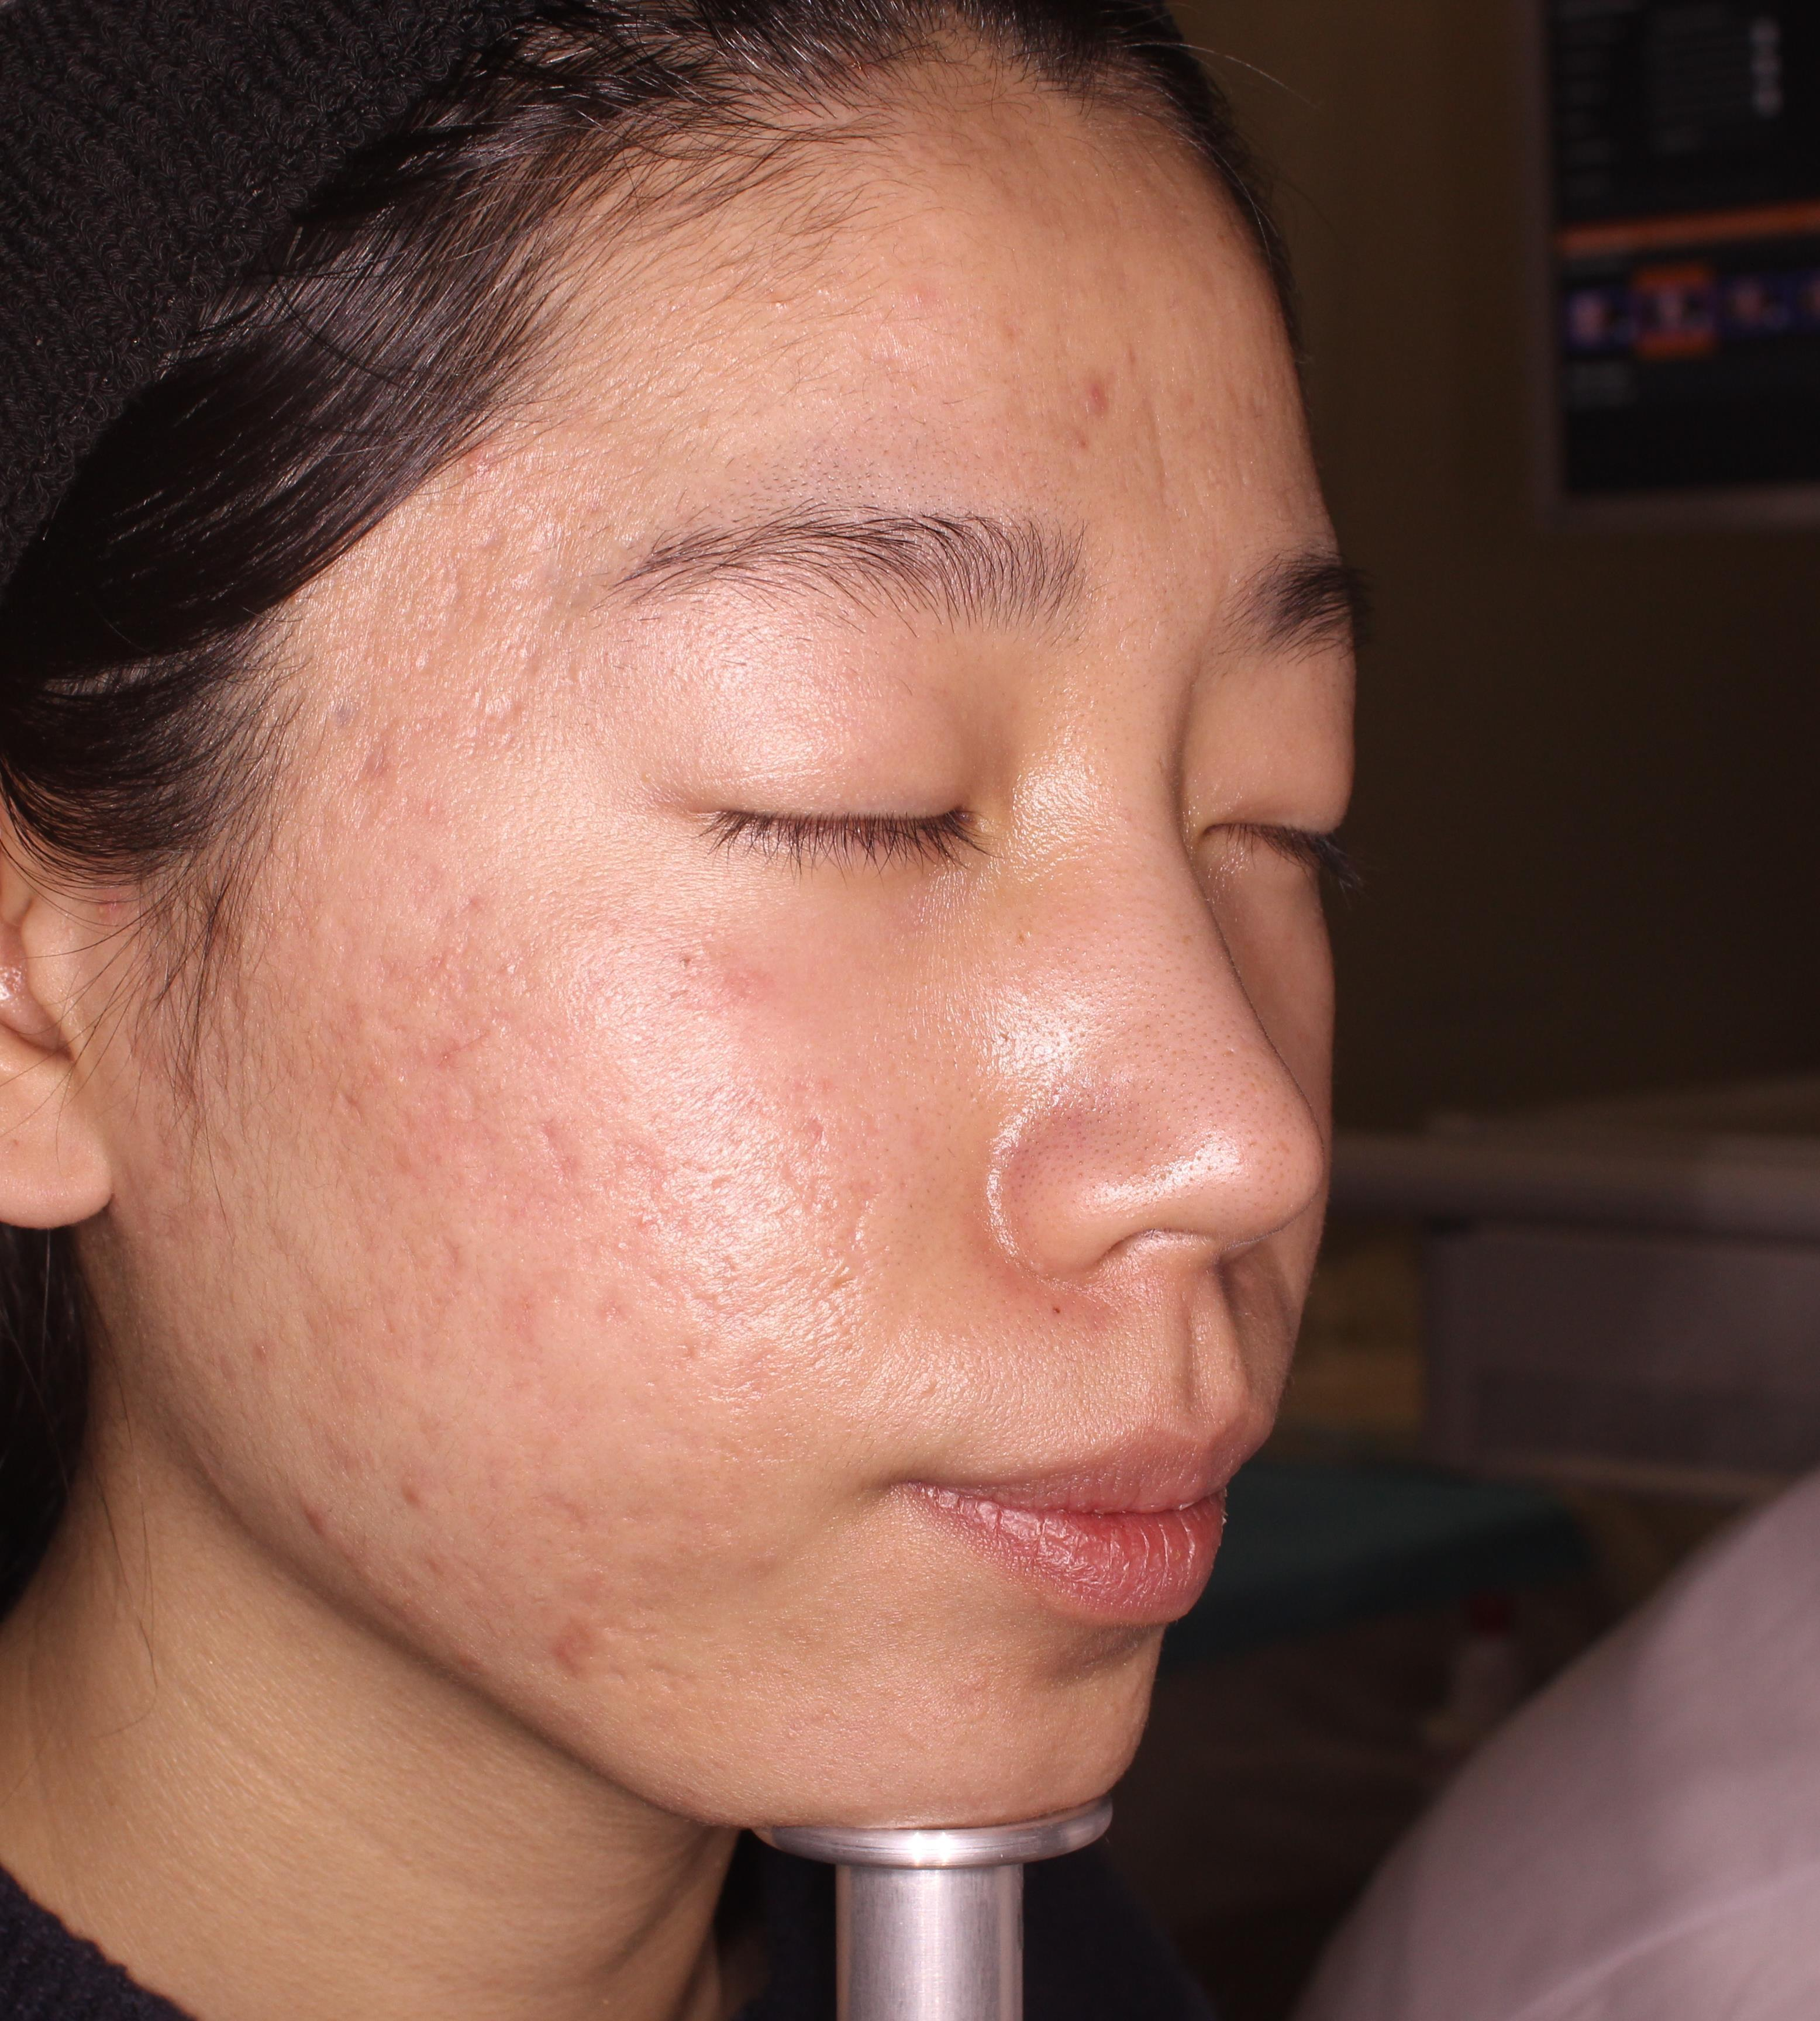fore: (511, 1594, 704, 1710), (1063, 335, 1161, 527), (265, 1464, 401, 1577)
